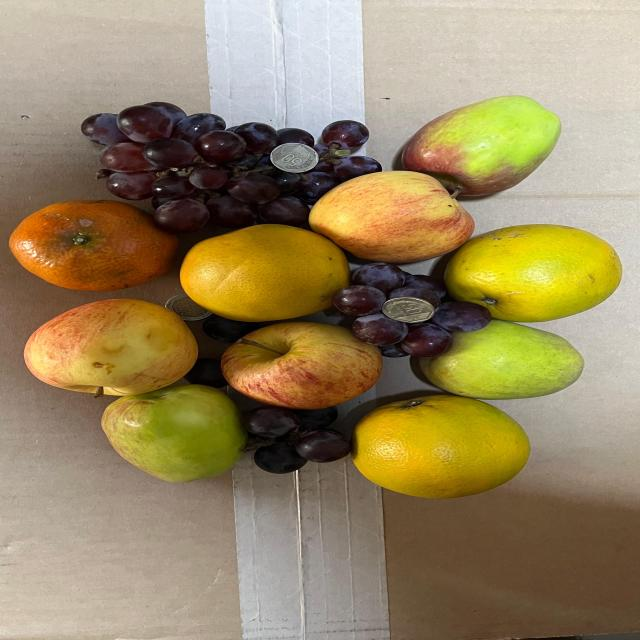moneda: (262, 140, 324, 178), (384, 292, 437, 329)
